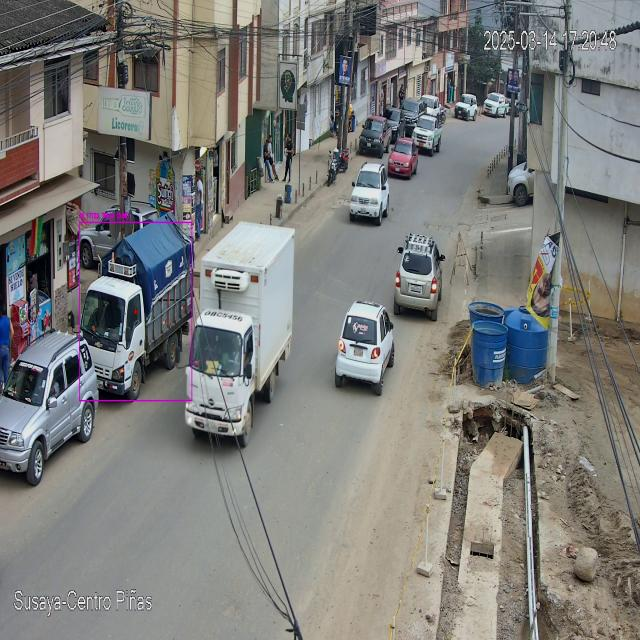SUV: (392, 235, 438, 321)
TRUCK: (185, 222, 295, 449), (81, 212, 191, 400)
